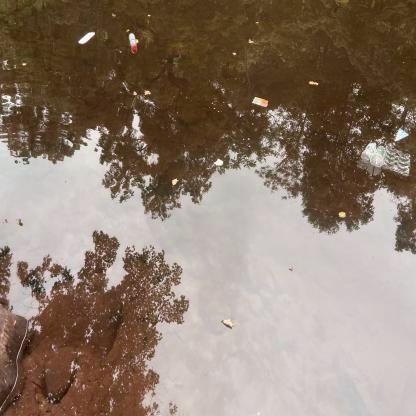Plastic: (362, 144, 412, 175), (392, 127, 411, 144), (127, 32, 138, 52)
